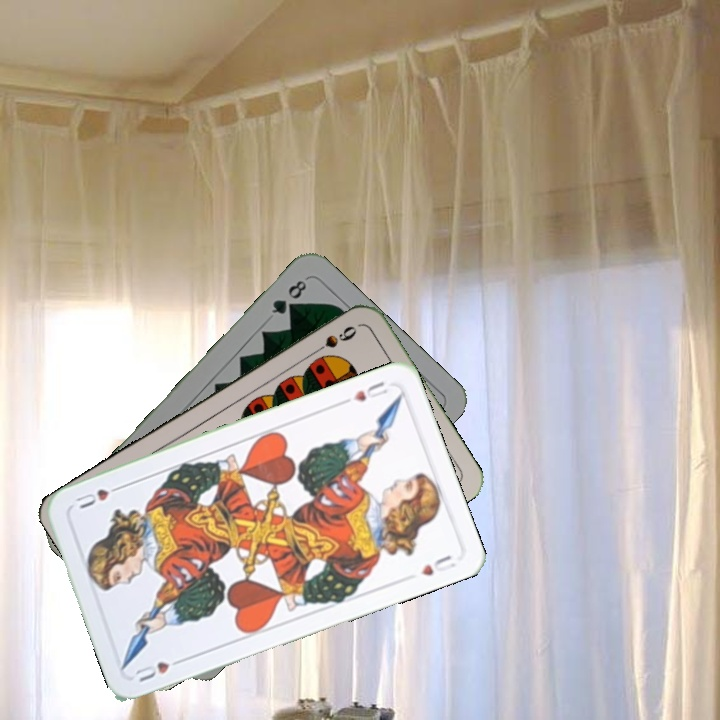G8: (267, 276, 310, 318)
HU: (131, 654, 188, 685), (338, 377, 391, 407)
S9: (307, 321, 360, 358)
